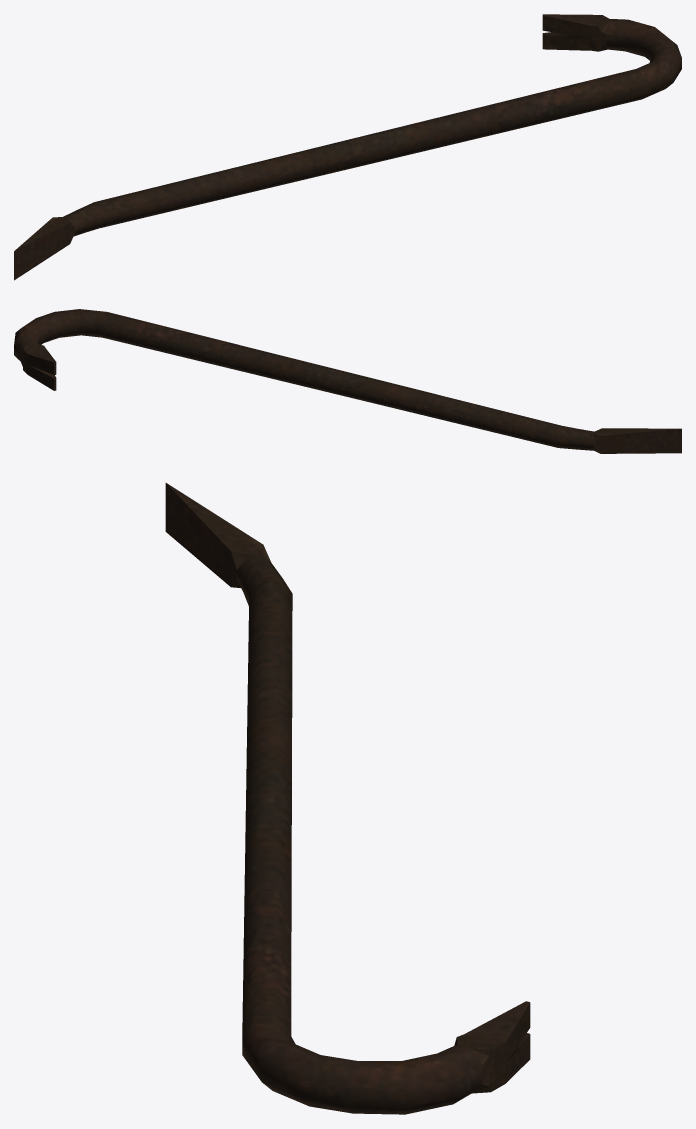
The model's file is rusty_crowbar_mx_1.obj.
3 views of the same model, one above another, from view 1: azimuth 30°, elevation 25°; view 2: azimuth 150°, elevation 25°; view 3: azimuth 270°, elevation 25° (orthographic). The views are drawn at different scales.
Parts seen in each view (by area): view 1: rusty_crowbar_mx_1; view 2: rusty_crowbar_mx_1; view 3: rusty_crowbar_mx_1.
Boxes of the visible parts, x1,y1,x2,y2 form: rusty_crowbar_mx_1: [14, 14, 681, 280]; rusty_crowbar_mx_1: [14, 309, 681, 453]; rusty_crowbar_mx_1: [165, 483, 530, 1114].
Size of the model in its own units: 1 by 0.045 by 0.2615.
